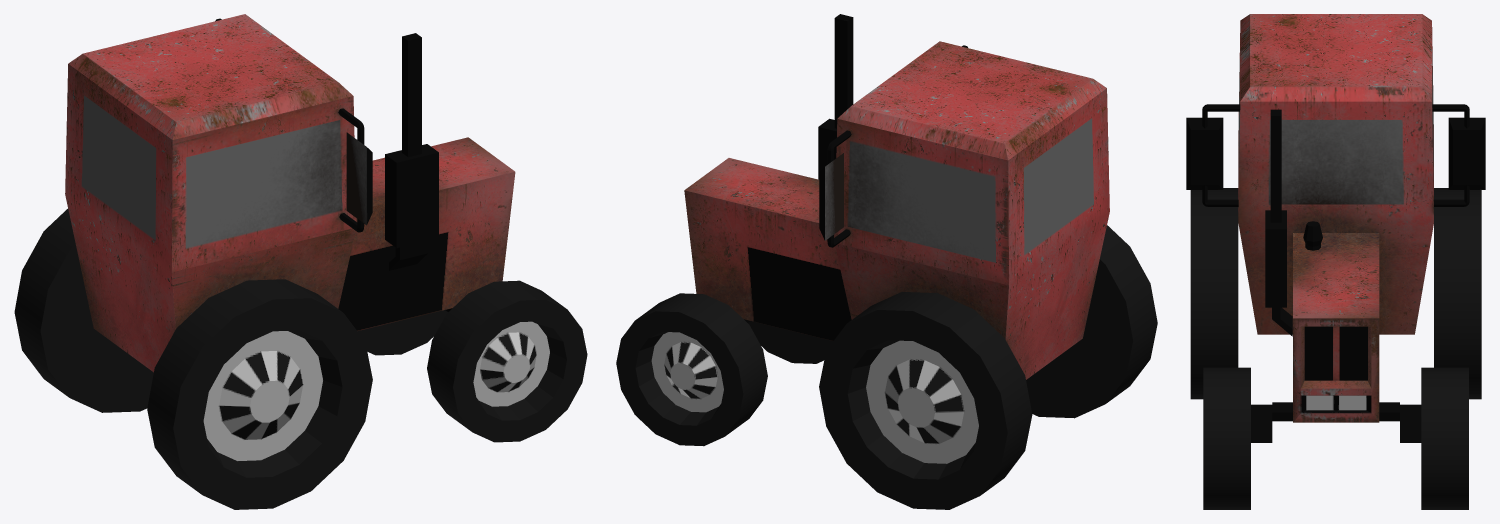
File: Tractor.fbx
The picture shows the model from 3 angles, left to right: view 1: azimuth 30°, elevation 25°; view 2: azimuth 150°, elevation 25°; view 3: azimuth 270°, elevation 25°; orthographic projection. The views are drawn at different scales.
Visible parts, largest first — view 1: Tractor; view 2: Tractor; view 3: Tractor.
Boxes of the visible parts, x1,y1,x2,y2 form: Tractor: (14,14,587,509); Tractor: (616,14,1157,509); Tractor: (1186,14,1485,509).
Size of the model in its own units: 5.16 by 4.59 by 3.46.
